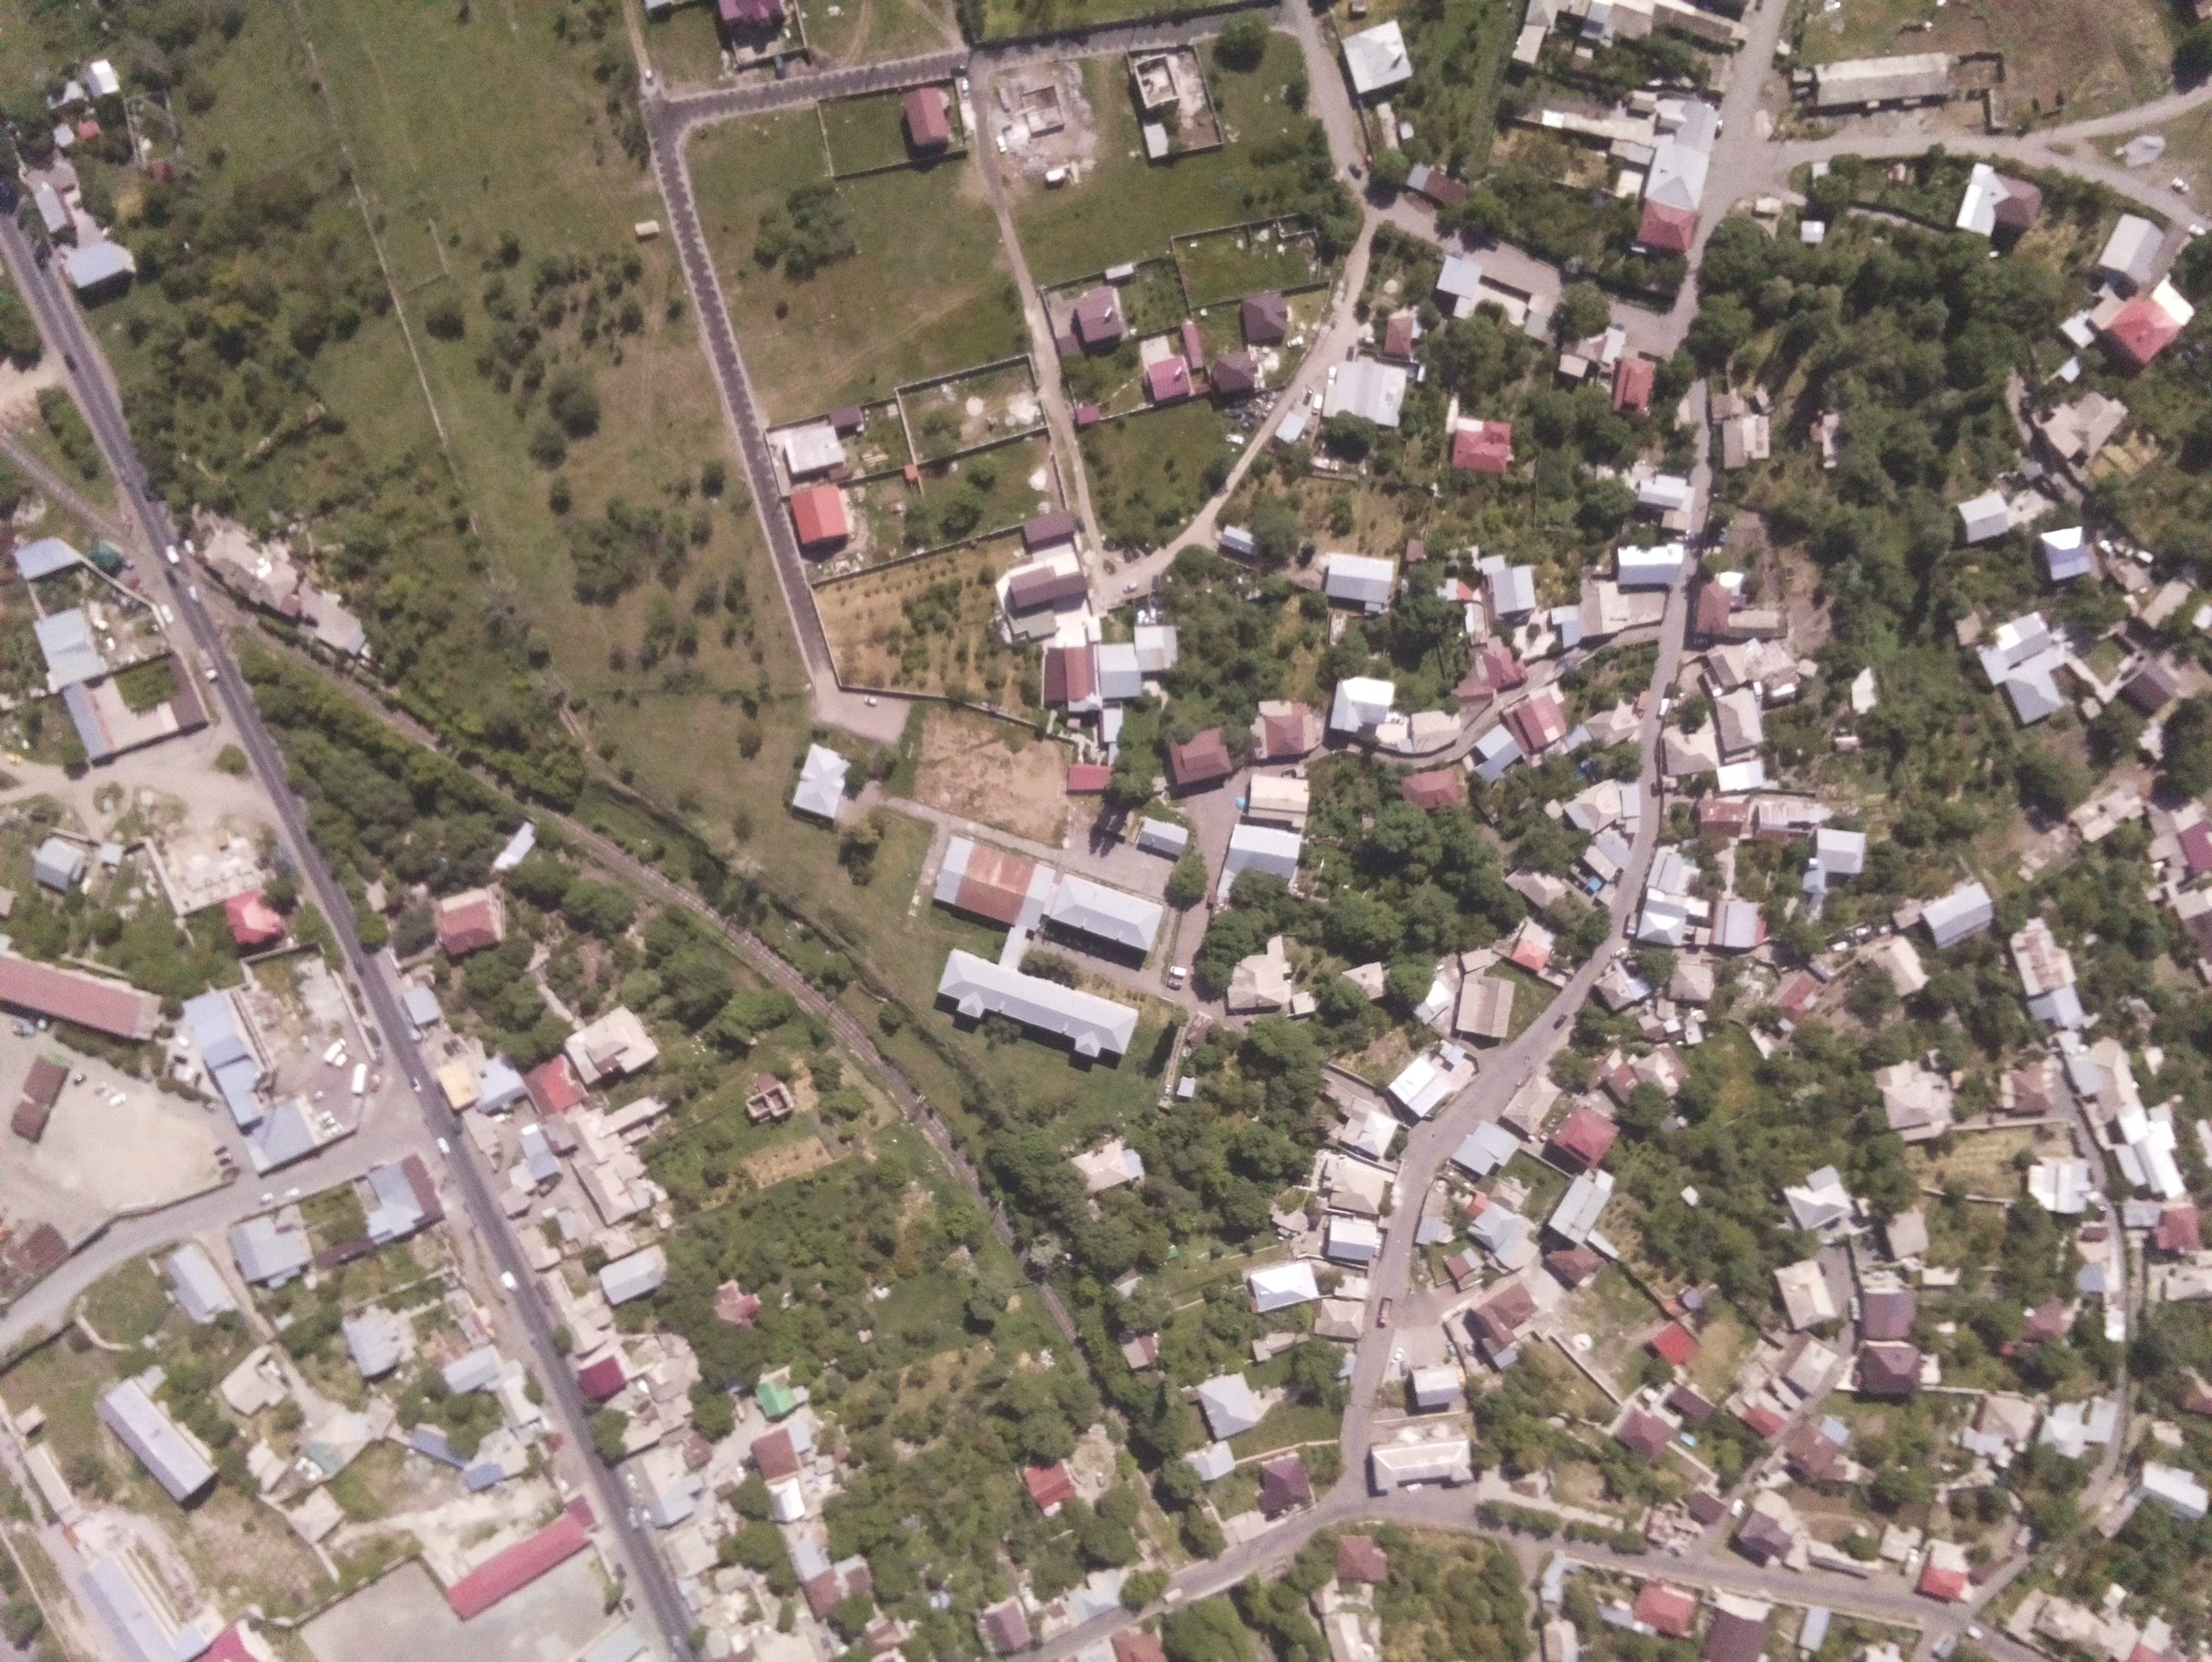car: (319, 1030, 346, 1065), (2167, 175, 2193, 197), (1344, 157, 1365, 183), (958, 73, 976, 103), (1283, 330, 1306, 353), (1549, 1007, 1570, 1032), (1606, 941, 1631, 962), (992, 133, 1013, 157), (1749, 679, 1769, 705), (1308, 389, 1327, 415), (1711, 115, 1728, 143), (1828, 936, 1851, 955), (1164, 964, 1191, 979), (1163, 976, 1185, 993), (1370, 1236, 1386, 1260), (1323, 363, 1339, 388), (1299, 386, 1316, 407), (1119, 578, 1142, 594), (861, 691, 880, 709), (1444, 1337, 1463, 1355), (409, 1074, 424, 1095), (1397, 1355, 1411, 1377), (1388, 1343, 1404, 1362), (1147, 604, 1159, 627)
truck: (1695, 665, 1727, 700), (1372, 1295, 1395, 1330), (1622, 910, 1641, 937)
